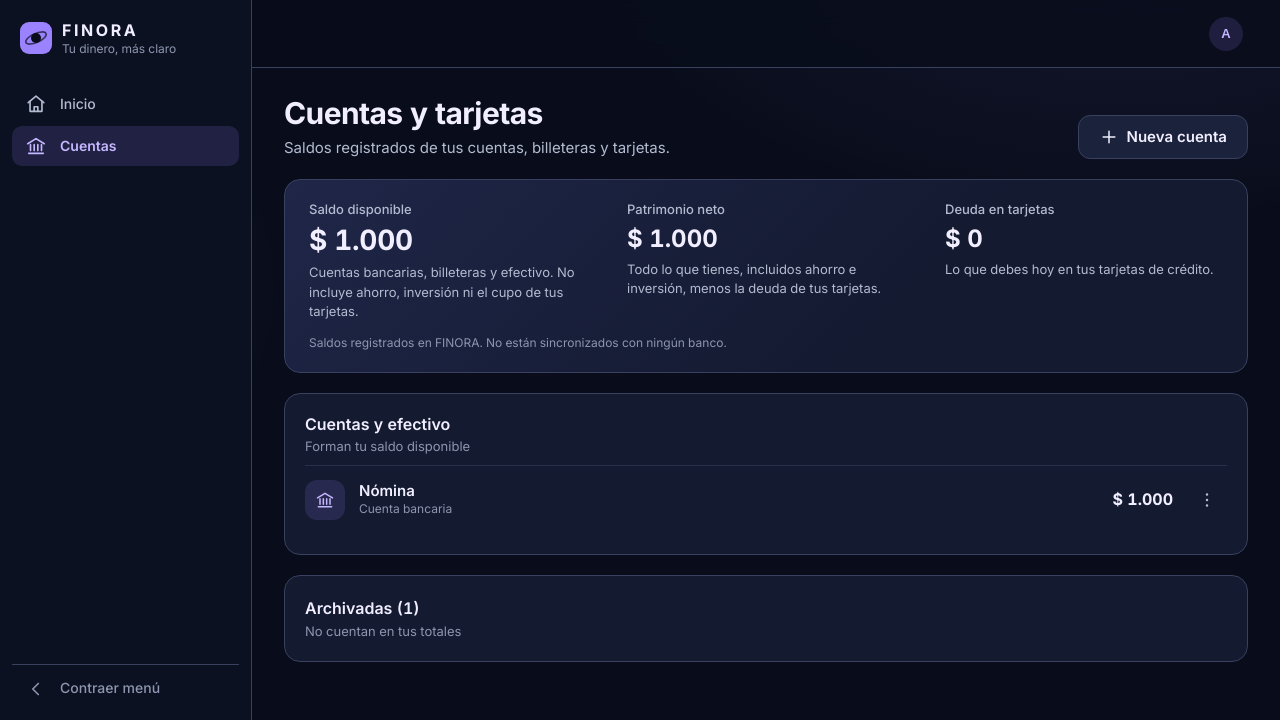
Scenario: reactivar (RF-ACC-08) › desde Archivadas, sin confirmación, y vuelve a contar
Click the heading "Archivadas (1) No cuentan en tus totales": (383, 618) x1=305 y1=598 x2=461 y2=639
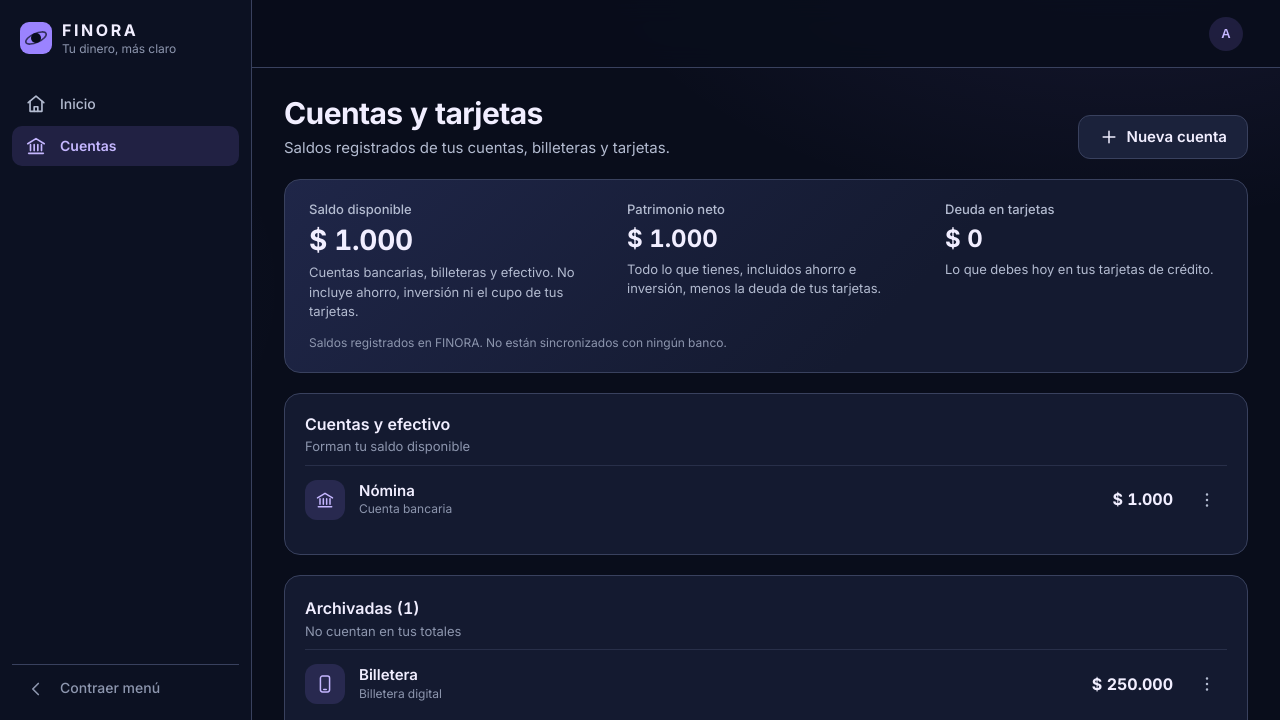
Click the button named "Acciones de Billetera": (1207, 684) x1=1187 y1=664 x2=1227 y2=704
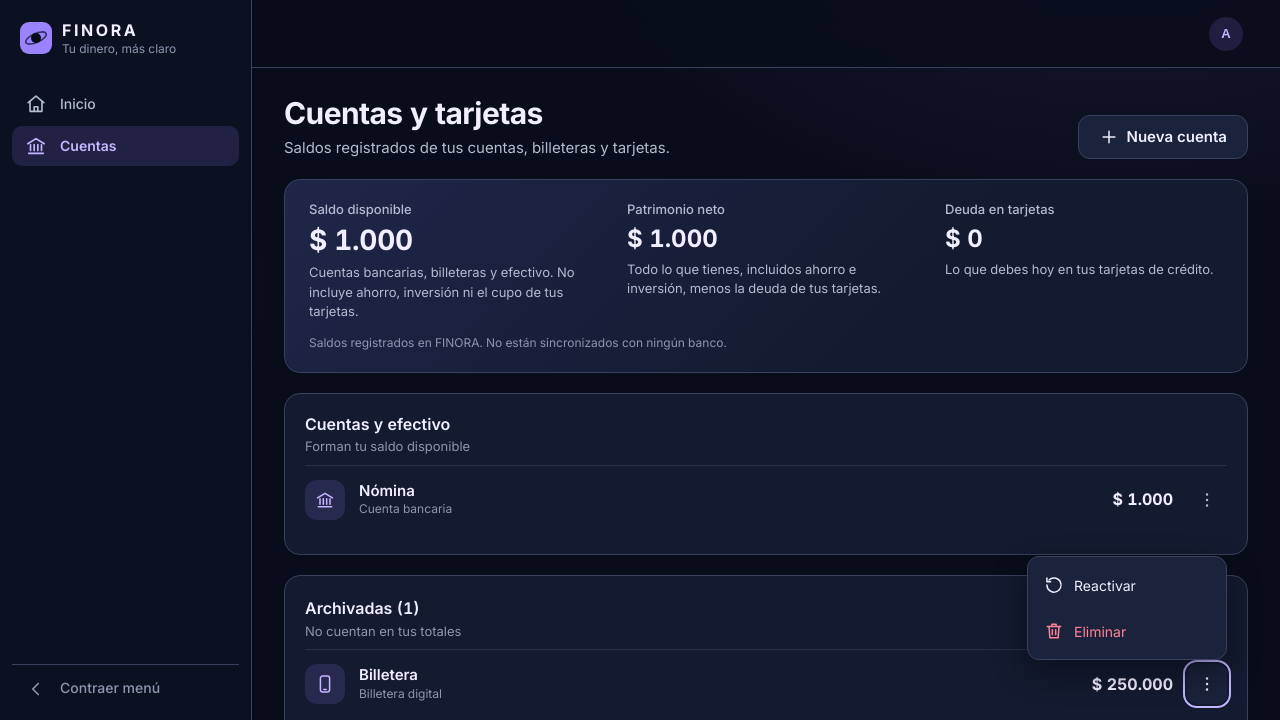
Expected: the buttons read "", "Reactivar", "Eliminar", in this order
Click the button "Reactivar": (1127, 585) x1=1034 y1=563 x2=1220 y2=607
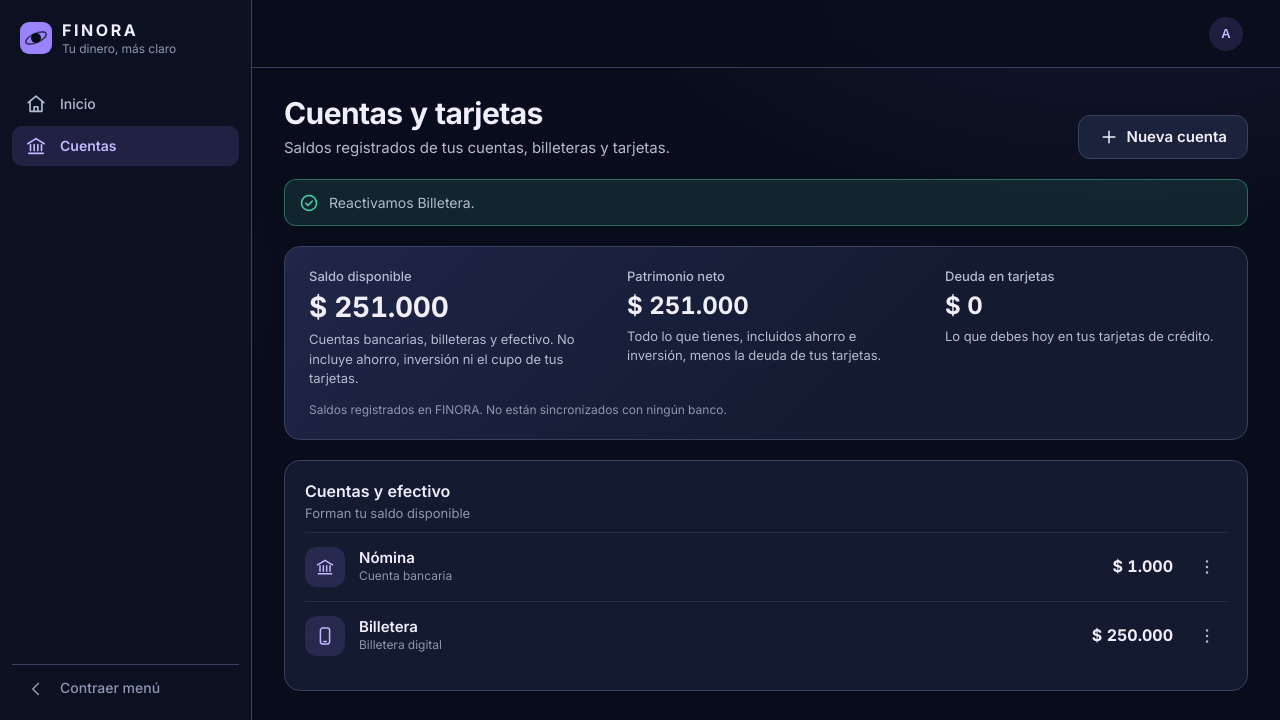
Expected: the text "Reactivamos Billetera." is shown, x1=329 y1=192 x2=474 y2=213
